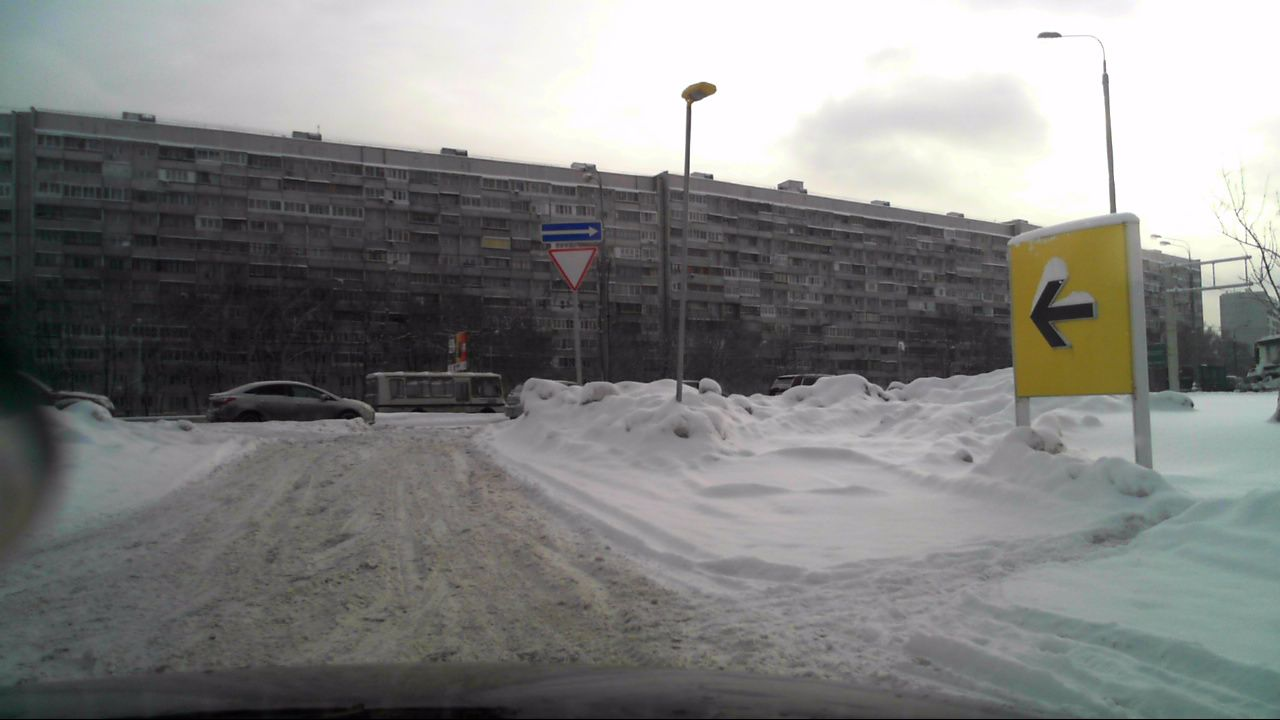One-Way Traffic: (541, 224, 602, 241)
